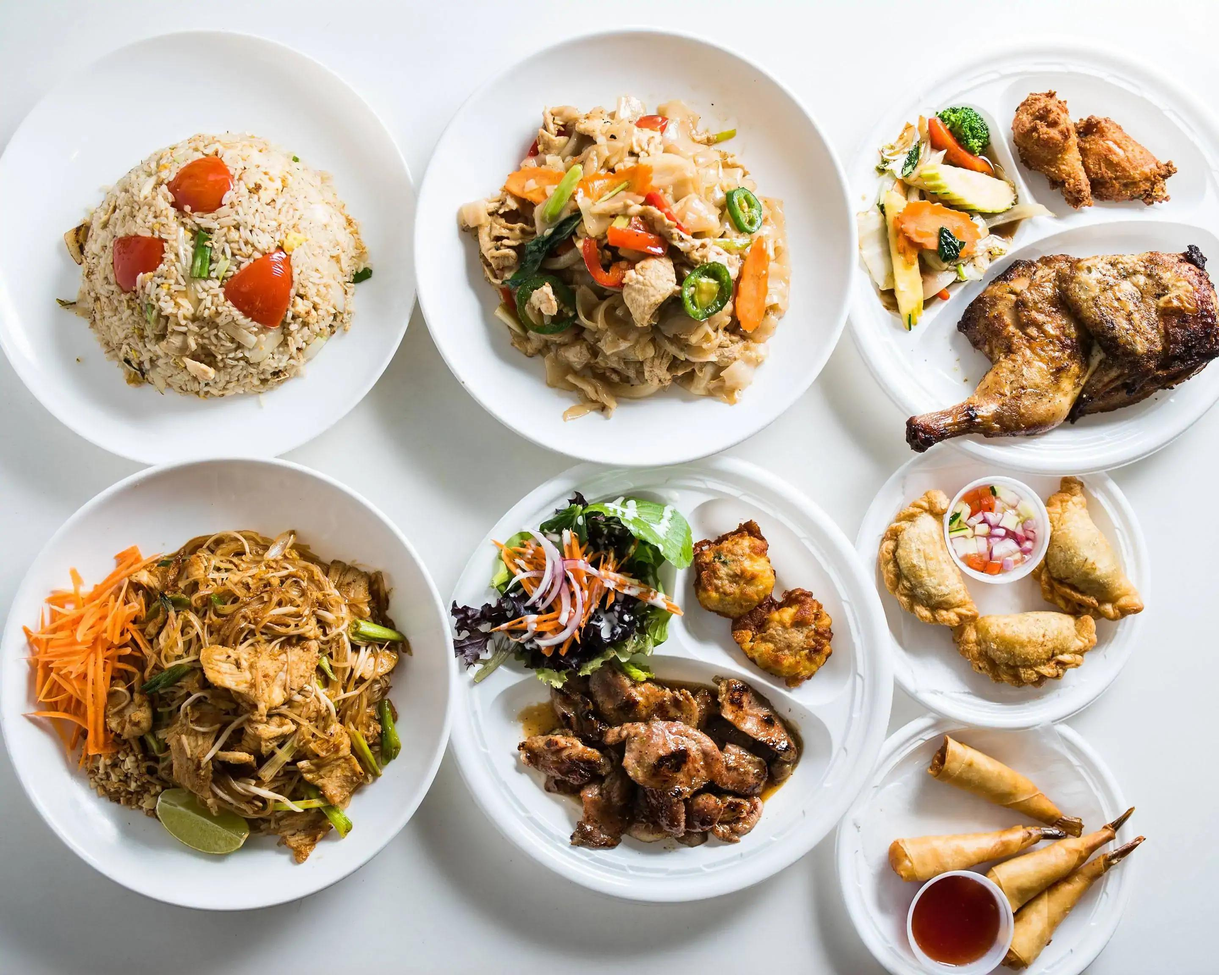Braised Crucian Carp: (0, 464, 453, 905), (0, 27, 421, 458), (430, 24, 806, 455), (837, 43, 1219, 460), (450, 468, 818, 898), (858, 442, 1151, 688), (849, 722, 1136, 972)
